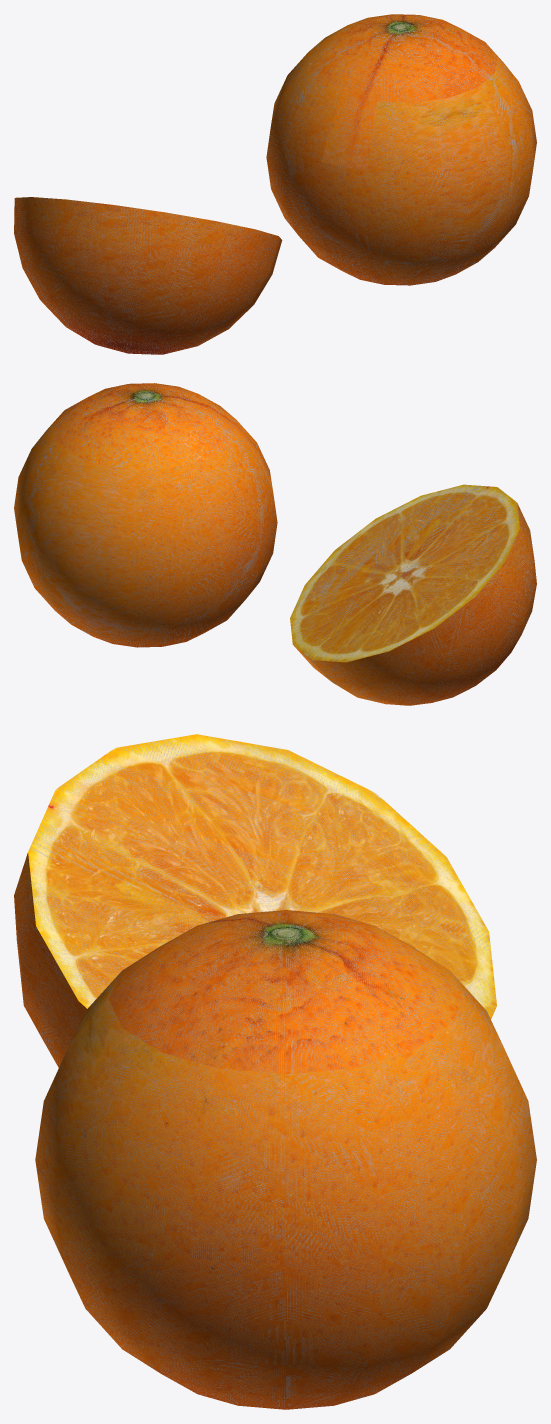
File: Oranges (3).dae
The picture shows the model from 3 angles, top to bottom: view 1: azimuth 30°, elevation 25°; view 2: azimuth 150°, elevation 25°; view 3: azimuth 270°, elevation 25°; orthographic projection. The views are drawn at different scales.
Parts seen in each view (by area): view 1: SketchUp (×3); view 2: SketchUp (×4); view 3: SketchUp (×4).
Part boxes in pixels (bbox=[...]): SketchUp (×3): bbox=[14, 14, 536, 354]; SketchUp (×4): bbox=[14, 383, 536, 705]; SketchUp (×4): bbox=[14, 734, 536, 1409].
Bounding box in the file's own units: 501 × 249 × 240.
